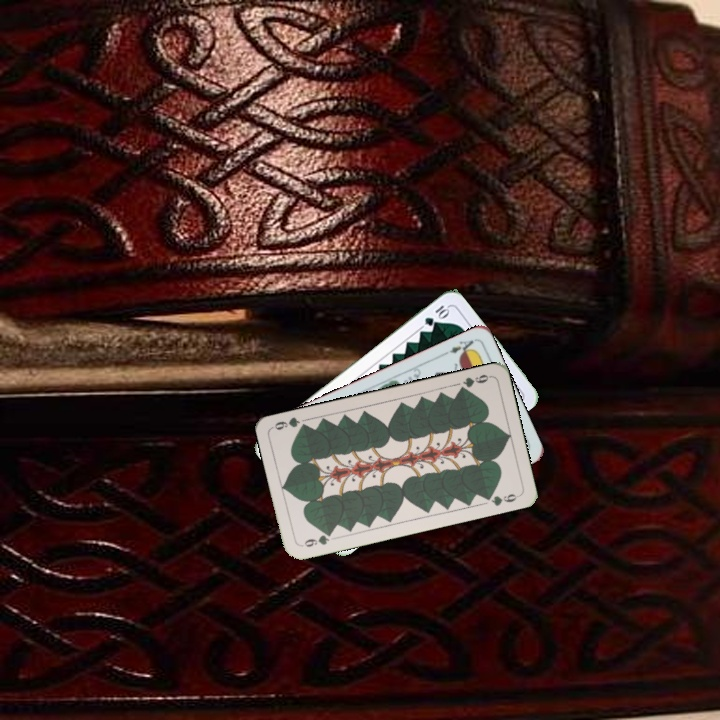EA: (439, 336, 477, 359)
G10: (420, 301, 452, 329)
G9: (455, 370, 493, 394), (297, 528, 335, 550)
